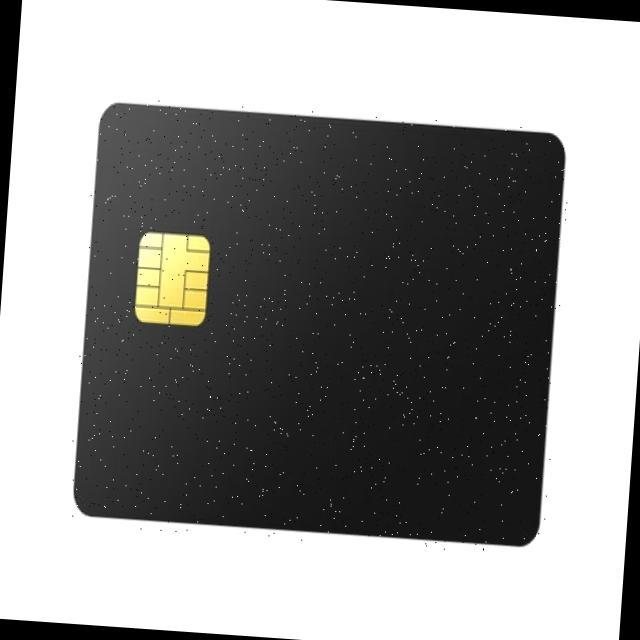payment_card: (72, 100, 566, 546)
